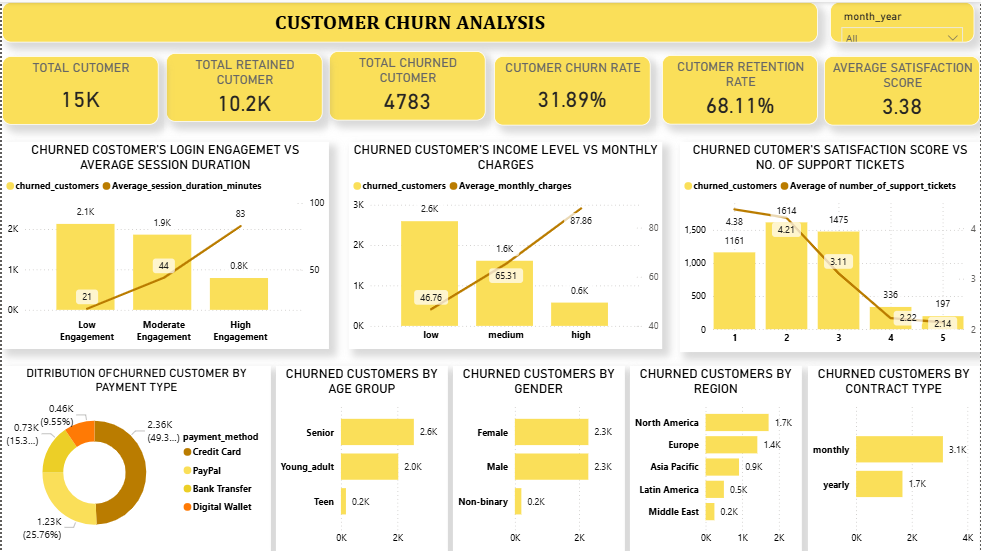

Layout of this report page (visuals, bound fields, positions):
{"tool":"powerbi","page":{"name":"customer_chuen_dashboard","canvas":[1280,720],"ordinal":0},"visuals":[{"type":"textbox","box":[0,0,1068.5,53.3],"z":0},{"type":"card","title":"TOTAL CHURNED CUTOMER","fields":{"Values":["customer_data.CHURNED_CUSTOMER"]},"box":[427.7,64.8,205,90.7],"z":1000},{"type":"card","title":"TOTAL RETAINED CUTOMER","fields":{"Values":["customer_data.RETAINED_CUSTOMER"]},"box":[214.6,66.2,205,90],"z":2000},{"type":"card","title":"TOTAL CUTOMER","fields":{"Values":["Count(customer_data.customer_id)"]},"box":[0,70.6,205,90],"z":3000},{"type":"card","title":" CUTOMER CHURN RATE","fields":{"Values":["customer_data.OVERALL_CHURN_RATE"]},"box":[643.7,70.6,205,90.7],"z":4000},{"type":"card","title":"CUTOMER RETENTION RATE","fields":{"Values":["tbl_meaure.RETENTION_RATE"]},"box":[864,69.1,204.5,90.7],"z":5000},{"type":"lineStackedColumnComboChart","title":"CHURNED  COSTOMER''S LOGIN ENGAGEMET VS AVERAGE SESSION DURATION","fields":{"Y":["tbl_meaure.CHURNED_CUSTOMER"],"Category":["customer_data.login_engagement"],"Y2":["Avg(customer_data.avg_session_duration_minutes)"]},"box":[0,182.9,427.7,270.7],"z":6000},{"type":"donutChart","title":"DITRIBUTION OFCHURNED CUSTOMER BY PAYMENT TYPE","fields":{"Y":["tbl_meaure.CHURNED_CUSTOMER"],"Category":["customer_data.payment_method"]},"box":[0,476.6,352,243.4],"z":7000},{"type":"lineClusteredColumnComboChart","title":"CHURNED CUSTOMER''S INCOME LEVEL VS MONTHLY CHARGES","fields":{"Category":["customer_data.income_level"],"Y":["tbl_meaure.CHURNED_CUSTOMER"],"Y2":["Avg(customer_data.monthly_charges)"]},"box":[453.6,182.9,410.4,270.7],"z":8000},{"type":"barChart","title":"CHURNED CUSTOMERS BY AGE GROUP","fields":{"Y":["tbl_meaure.CHURNED_CUSTOMER"],"Category":["customer_data.age_group"]},"box":[358.6,476.6,224.6,243.4],"z":9000},{"type":"barChart","title":"CHURNED CUSTOMERS BY GENDER","fields":{"Y":["tbl_meaure.CHURNED_CUSTOMER"],"Category":["customer_data.gender"]},"box":[590.4,476.6,224.6,243.4],"z":10000},{"type":"barChart","title":"CHURNED CUSTOMERS BY REGION","fields":{"Y":["tbl_meaure.CHURNED_CUSTOMER"],"Category":["customer_data.region"]},"box":[822.2,476.6,224.6,243.4],"z":11000},{"type":"lineStackedColumnComboChart","title":"CHURNED CUTOMER''S SATISFACTION SCORE VS NO. OF SUPPORT TICKETS","fields":{"Category":["customer_data.satisfaction_score"],"Y":["tbl_meaure.CHURNED_CUSTOMER"],"Y2":["Avg(customer_data.number_of_support_tickets)"]},"box":[887,182.9,393.1,275],"z":12000},{"type":"slicer","fields":{"Values":["customer_data.month_year"]},"box":[1084.3,0,188.6,53.3],"z":13000},{"type":"card","title":"AVERAGE SATISFACTION SCORE","fields":{"Values":["Avg(customer_data.satisfaction_score)"]},"box":[1075.7,70.6,204.5,90.7],"z":13001},{"type":"barChart","title":"CHURNED CUSTOMERS BY CONTRACT TYPE","fields":{"Y":["tbl_meaure.CHURNED_CUSTOMER"],"Category":["customer_data.contract_type"]},"box":[1055.5,476.6,224.6,243.4],"z":13002}]}

Visuals, with their boxes in screenshot pixels (x1, y1, x2, y2), scaled from the page's 1280x720 canvas onto the 981x551 screenshot:
textbox: 0, 0, 819, 41
"TOTAL CHURNED CUTOMER" card: 328, 50, 485, 119
"TOTAL RETAINED CUTOMER" card: 164, 51, 322, 120
"TOTAL CUTOMER" card: 0, 54, 157, 123
" CUTOMER CHURN RATE" card: 493, 54, 650, 123
"CUTOMER RETENTION RATE" card: 662, 53, 819, 122
"CHURNED  COSTOMER''S LOGIN ENGAGEMET VS AVERAGE SESSION DURATION" lineStackedColumnComboChart: 0, 140, 328, 347
"DITRIBUTION OFCHURNED CUSTOMER BY PAYMENT TYPE" donutChart: 0, 365, 270, 550
"CHURNED CUSTOMER''S INCOME LEVEL VS MONTHLY CHARGES" lineClusteredColumnComboChart: 348, 140, 662, 347
"CHURNED CUSTOMERS BY AGE GROUP" barChart: 275, 365, 447, 550
"CHURNED CUSTOMERS BY GENDER" barChart: 452, 365, 625, 550
"CHURNED CUSTOMERS BY REGION" barChart: 630, 365, 802, 550
"CHURNED CUTOMER''S SATISFACTION SCORE VS NO. OF SUPPORT TICKETS" lineStackedColumnComboChart: 680, 140, 980, 350
slicer - customer_data.month_year: 831, 0, 976, 41
"AVERAGE SATISFACTION SCORE" card: 824, 54, 980, 123
"CHURNED CUSTOMERS BY CONTRACT TYPE" barChart: 809, 365, 980, 550
